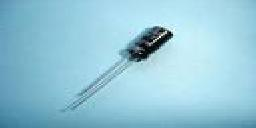Electrolytic Capacitor: (64, 22, 179, 128)
